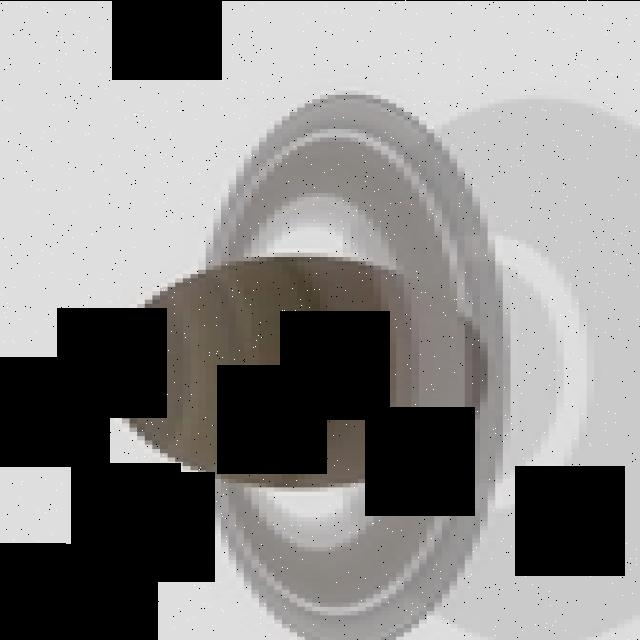Saturn: (92, 94, 518, 640)
